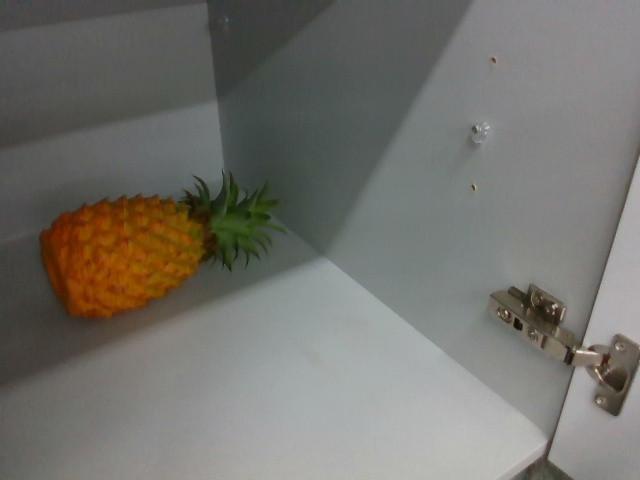pineapple: (33, 174, 284, 308)
